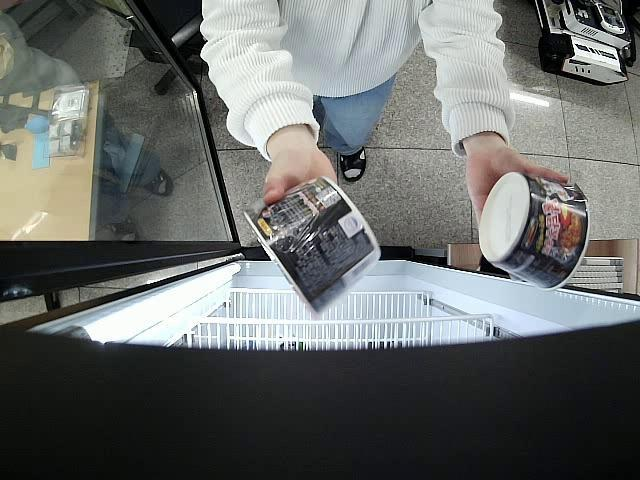07_buldak_L: (242, 175, 381, 322), (478, 170, 591, 291)
